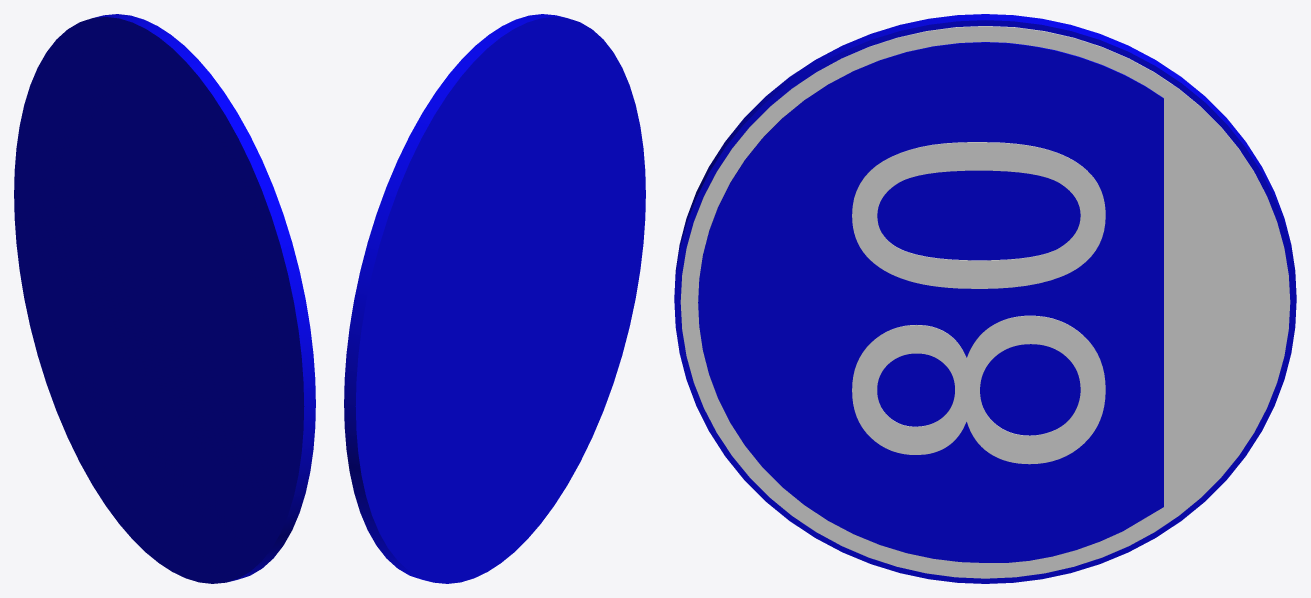
File: 最低限速80.gltf
3 views of the same model, side by side, from view 1: azimuth 30°, elevation 25°; view 2: azimuth 150°, elevation 25°; view 3: azimuth 270°, elevation 25° (orthographic). The views are drawn at different scales.
Visible parts, largest first — view 1: 最低时速限制80; view 2: 最低时速限制80; view 3: 最低时速限制80.
Boxes of the visible parts, x1,y1,x2,y2 form: 最低时速限制80: (14,14,315,583); 最低时速限制80: (344,14,645,583); 最低时速限制80: (674,14,1296,583).
Bounding box in the file's own units: 0.0213 × 0.7691 × 0.7691.
